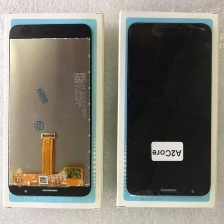phone: (121, 19, 215, 199), (5, 21, 96, 200)
